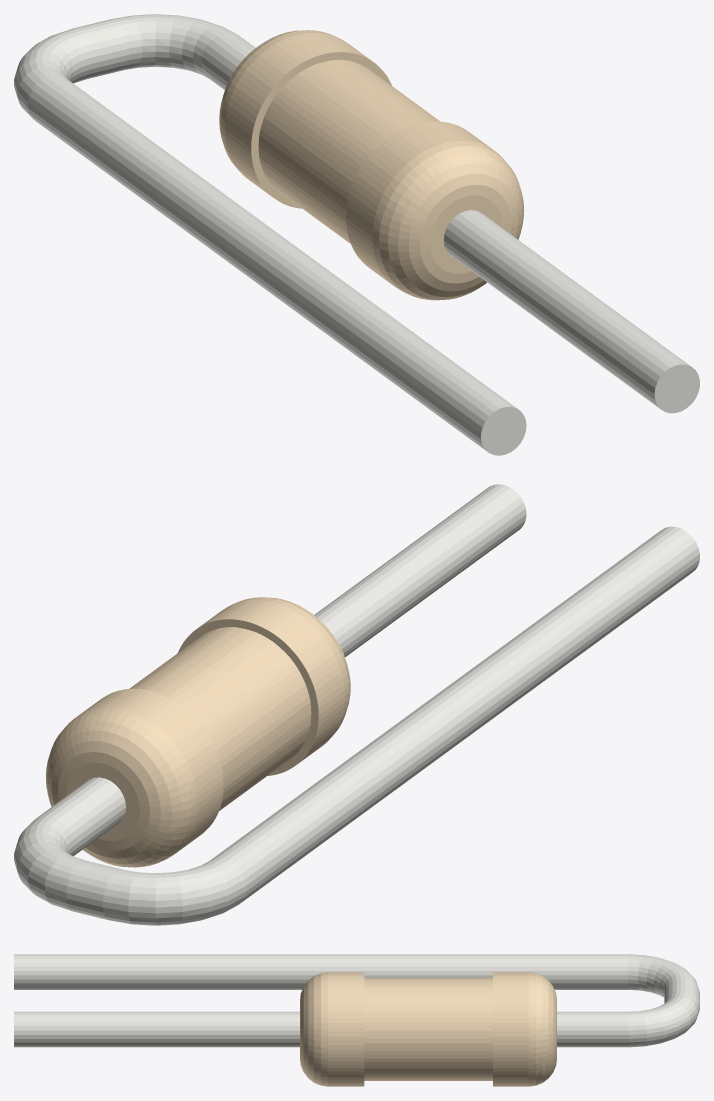
Rendered from R_Axial_DIN0204_L3.6mm_D1.6mm_P1.90mm_Vertical.glb.
3 renders of one model, top to bottom at view 1: azimuth 30°, elevation 25°; view 2: azimuth 150°, elevation 25°; view 3: azimuth 270°, elevation 25°, orthographic. The views are drawn at different scales.
Visible parts, largest first — view 1: Shape_IndexedFaceSet.015, Shape_IndexedFaceSet.004, Shape_IndexedFaceSet.005, Shape_IndexedFaceSet.001, Shape_IndexedFaceSet, Shape_IndexedFaceSet.008, Shape_IndexedFaceSet.012, Shape_IndexedFaceSet.014, Shape_IndexedFaceSet.006, Shape_IndexedFaceSet.013, Shape_IndexedFaceSet.003, Shape_IndexedFaceSet.011 (+3 smaller); view 2: Shape_IndexedFaceSet.015, Shape_IndexedFaceSet.004, Shape_IndexedFaceSet.009, Shape_IndexedFaceSet.005, Shape_IndexedFaceSet.014, Shape_IndexedFaceSet, Shape_IndexedFaceSet.008, Shape_IndexedFaceSet.012, Shape_IndexedFaceSet.011, Shape_IndexedFaceSet.002, Shape_IndexedFaceSet.013, Shape_IndexedFaceSet.010 (+1 smaller); view 3: Shape_IndexedFaceSet.015, Shape_IndexedFaceSet.004, Shape_IndexedFaceSet.005, Shape_IndexedFaceSet, Shape_IndexedFaceSet.008, Shape_IndexedFaceSet.009, Shape_IndexedFaceSet.001, Shape_IndexedFaceSet.012, Shape_IndexedFaceSet.011, Shape_IndexedFaceSet.014, Shape_IndexedFaceSet.013.
Part boxes in pixels (left/top/right/bottom): Shape_IndexedFaceSet.015: left=28, top=75, right=517, bottom=451; Shape_IndexedFaceSet.004: left=258, top=59, right=440, bottom=243; Shape_IndexedFaceSet.005: left=443, top=210, right=690, bottom=408; Shape_IndexedFaceSet.001: left=372, top=141, right=524, bottom=300; Shape_IndexedFaceSet: left=346, top=121, right=492, bottom=284; Shape_IndexedFaceSet.008: left=224, top=32, right=371, bottom=195; Shape_IndexedFaceSet.012: left=111, top=14, right=237, bottom=78; Shape_IndexedFaceSet.014: left=14, top=28, right=92, bottom=116; Shape_IndexedFaceSet.006: left=251, top=52, right=391, bottom=208; Shape_IndexedFaceSet.013: left=74, top=19, right=129, bottom=78; Shape_IndexedFaceSet.003: left=430, top=195, right=502, bottom=273; Shape_IndexedFaceSet.011: left=201, top=32, right=255, bottom=89; Shape_IndexedFaceSet.015: left=210, top=526, right=699, bottom=902; Shape_IndexedFaceSet.004: left=129, top=627, right=311, bottom=810; Shape_IndexedFaceSet.009: left=46, top=708, right=197, bottom=867; Shape_IndexedFaceSet.005: left=314, top=484, right=526, bottom=657; Shape_IndexedFaceSet.014: left=103, top=858, right=246, bottom=925; Shape_IndexedFaceSet: left=198, top=600, right=344, bottom=763; Shape_IndexedFaceSet.008: left=77, top=688, right=223, bottom=851; Shape_IndexedFaceSet.012: left=14, top=816, right=85, bottom=910; Shape_IndexedFaceSet.011: left=36, top=777, right=125, bottom=856; Shape_IndexedFaceSet.002: left=178, top=619, right=318, bottom=775; Shape_IndexedFaceSet.013: left=66, top=860, right=122, bottom=920; Shape_IndexedFaceSet.010: left=67, top=762, right=139, bottom=841; Shape_IndexedFaceSet.015: left=14, top=954, right=628, bottom=989; Shape_IndexedFaceSet.004: left=364, top=978, right=492, bottom=1080; Shape_IndexedFaceSet.005: left=14, top=1011, right=299, bottom=1047; Shape_IndexedFaceSet: left=328, top=972, right=364, bottom=1086; Shape_IndexedFaceSet.008: left=493, top=972, right=528, bottom=1086; Shape_IndexedFaceSet.009: left=528, top=972, right=556, bottom=1086; Shape_IndexedFaceSet.001: left=300, top=972, right=328, bottom=1086; Shape_IndexedFaceSet.012: left=628, top=990, right=699, bottom=1047; Shape_IndexedFaceSet.011: left=557, top=1011, right=628, bottom=1047; Shape_IndexedFaceSet.014: left=628, top=954, right=698, bottom=997; Shape_IndexedFaceSet.013: left=664, top=978, right=699, bottom=1003.
Bounding box in the file's own units: 1.16 × 0.63 × 3.78.
